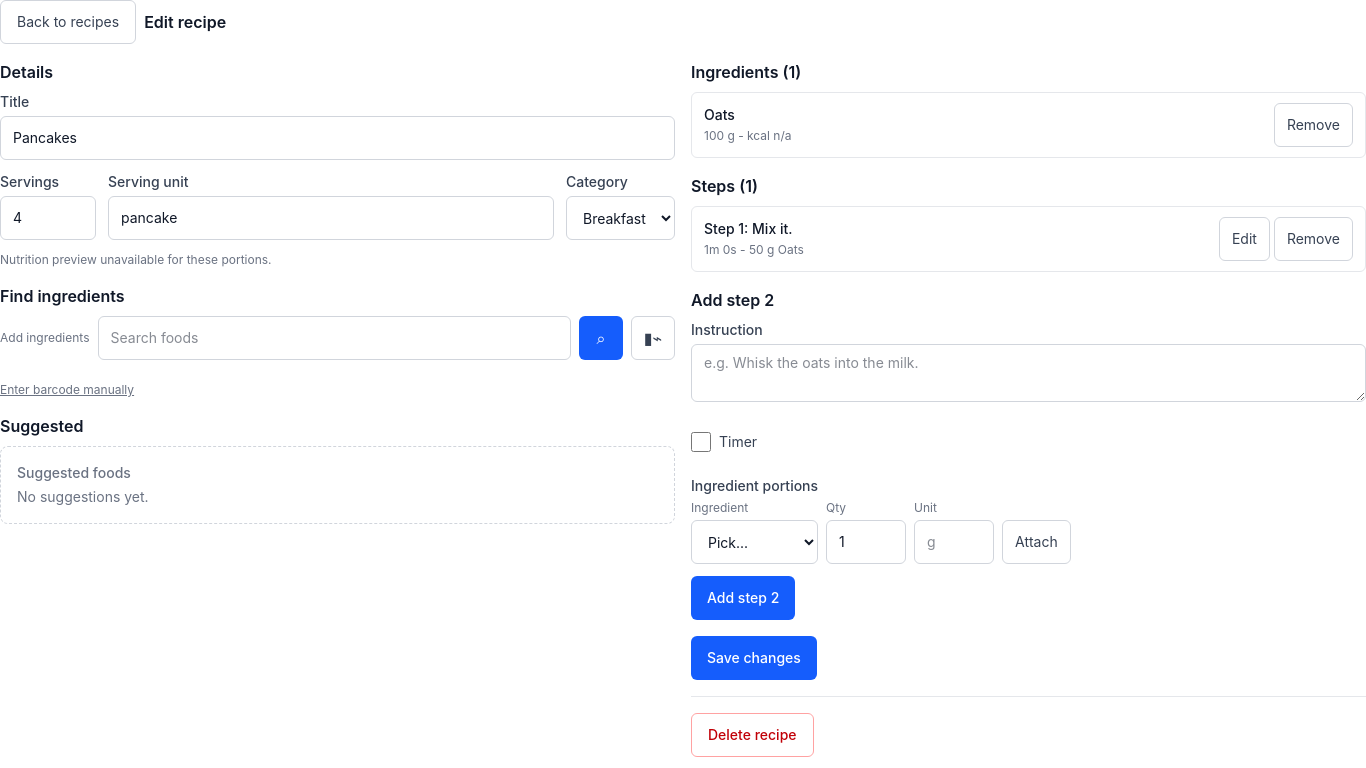
it: RecipeEdit › delete asks for confirmation, then deletes and leaves edit
The image size is (1366, 768).
Later steps or results of the test are not shown.
Expected: the list named "Ingredient lines" is shown, x1=691 y1=92 x2=1365 y2=158
Click the button "Delete recipe".
click(752, 735)  # box x1=691 y1=713 x2=814 y2=757
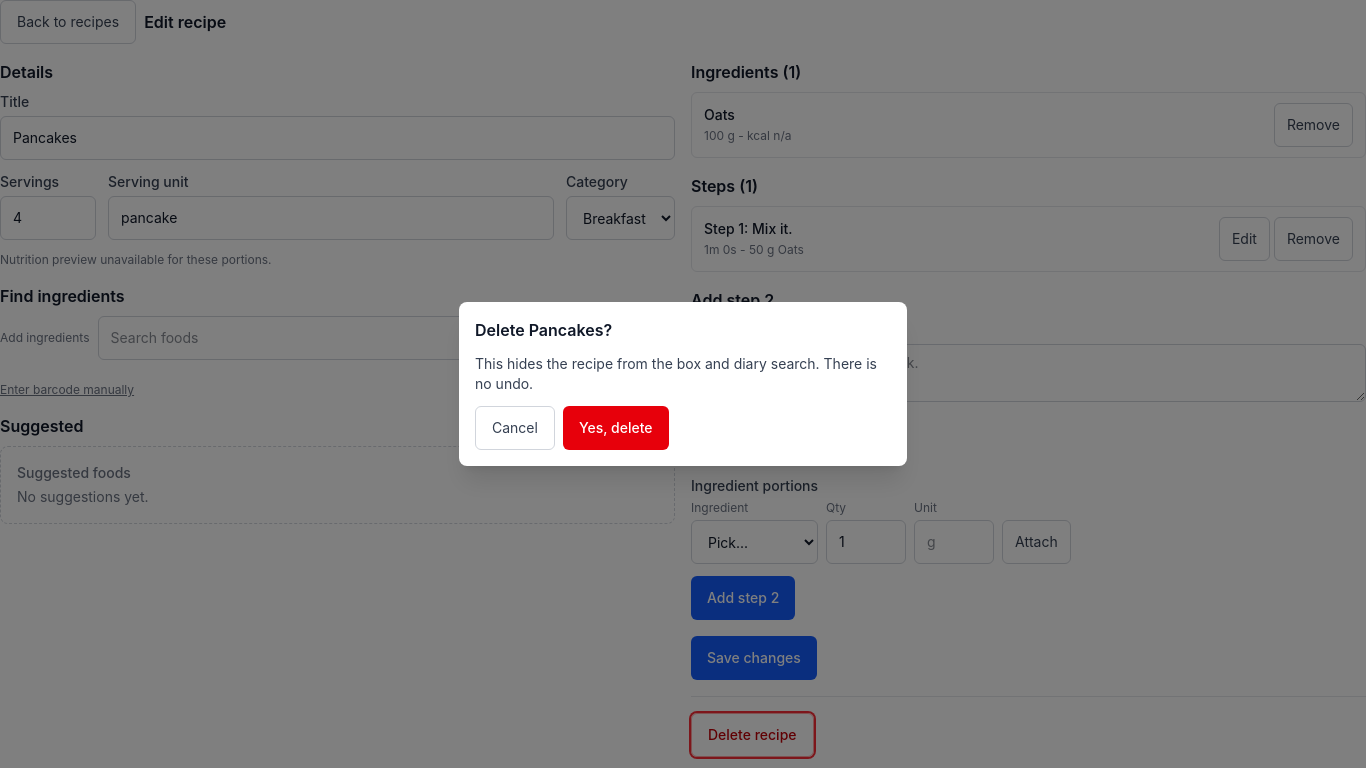
Result: the dialog named "Delete recipe" is shown
